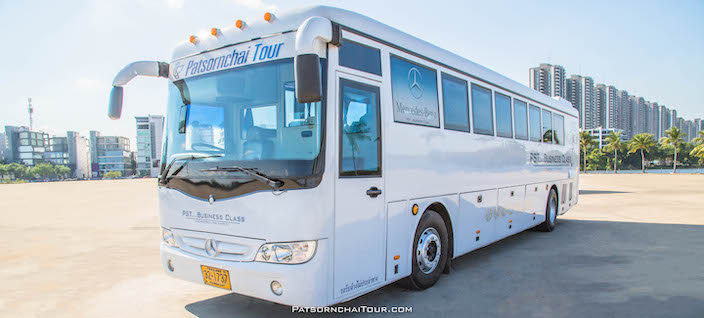bus: (158, 4, 577, 309)
